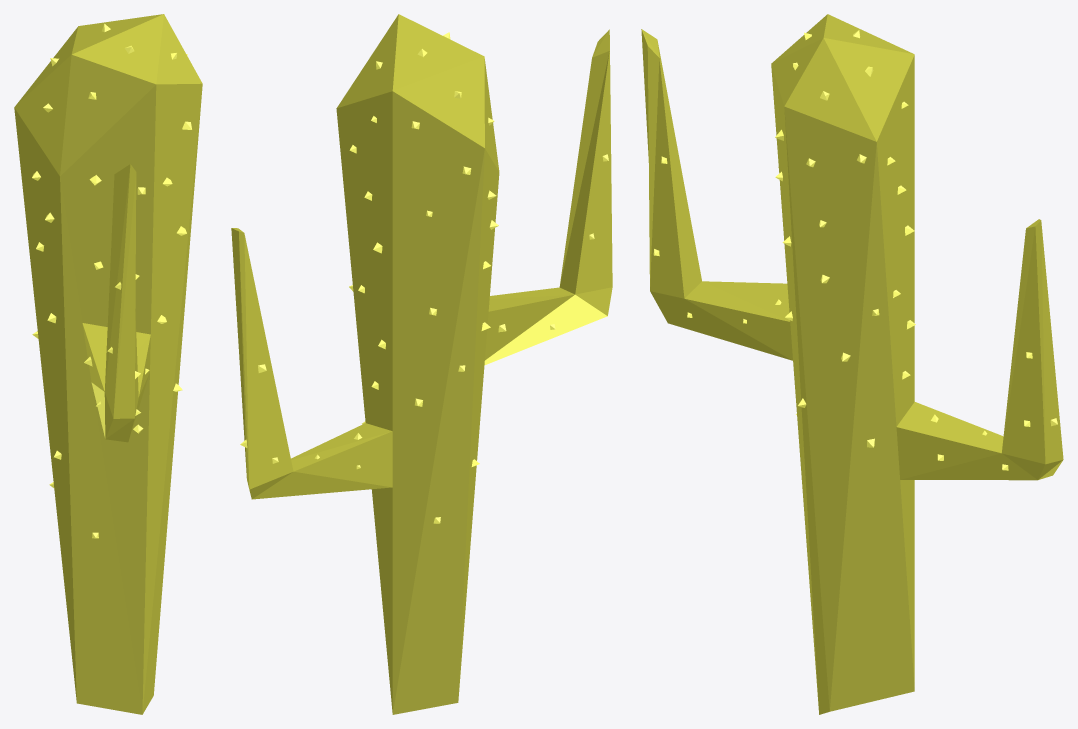
File: cactus.fbx
The picture shows the model from 3 angles, left to right: view 1: azimuth 30°, elevation 25°; view 2: azimuth 150°, elevation 25°; view 3: azimuth 270°, elevation 25°; orthographic projection. The views are drawn at different scales.
Parts seen in each view (by area): view 1: Merge_0; view 2: Merge_0; view 3: Merge_0.
Boxes of the visible parts, x1,y1,x2,y2 form: Merge_0: (14, 14, 202, 714); Merge_0: (231, 14, 612, 714); Merge_0: (641, 14, 1063, 714).
Bounding box in the file's own units: 132 × 431 × 240.
